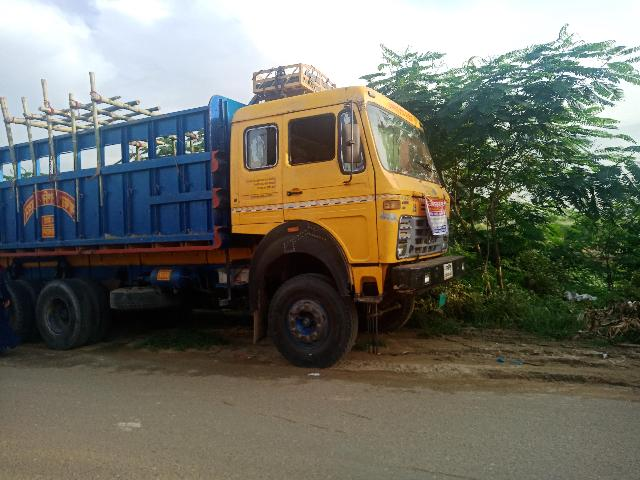truck: (0, 78, 455, 364)
